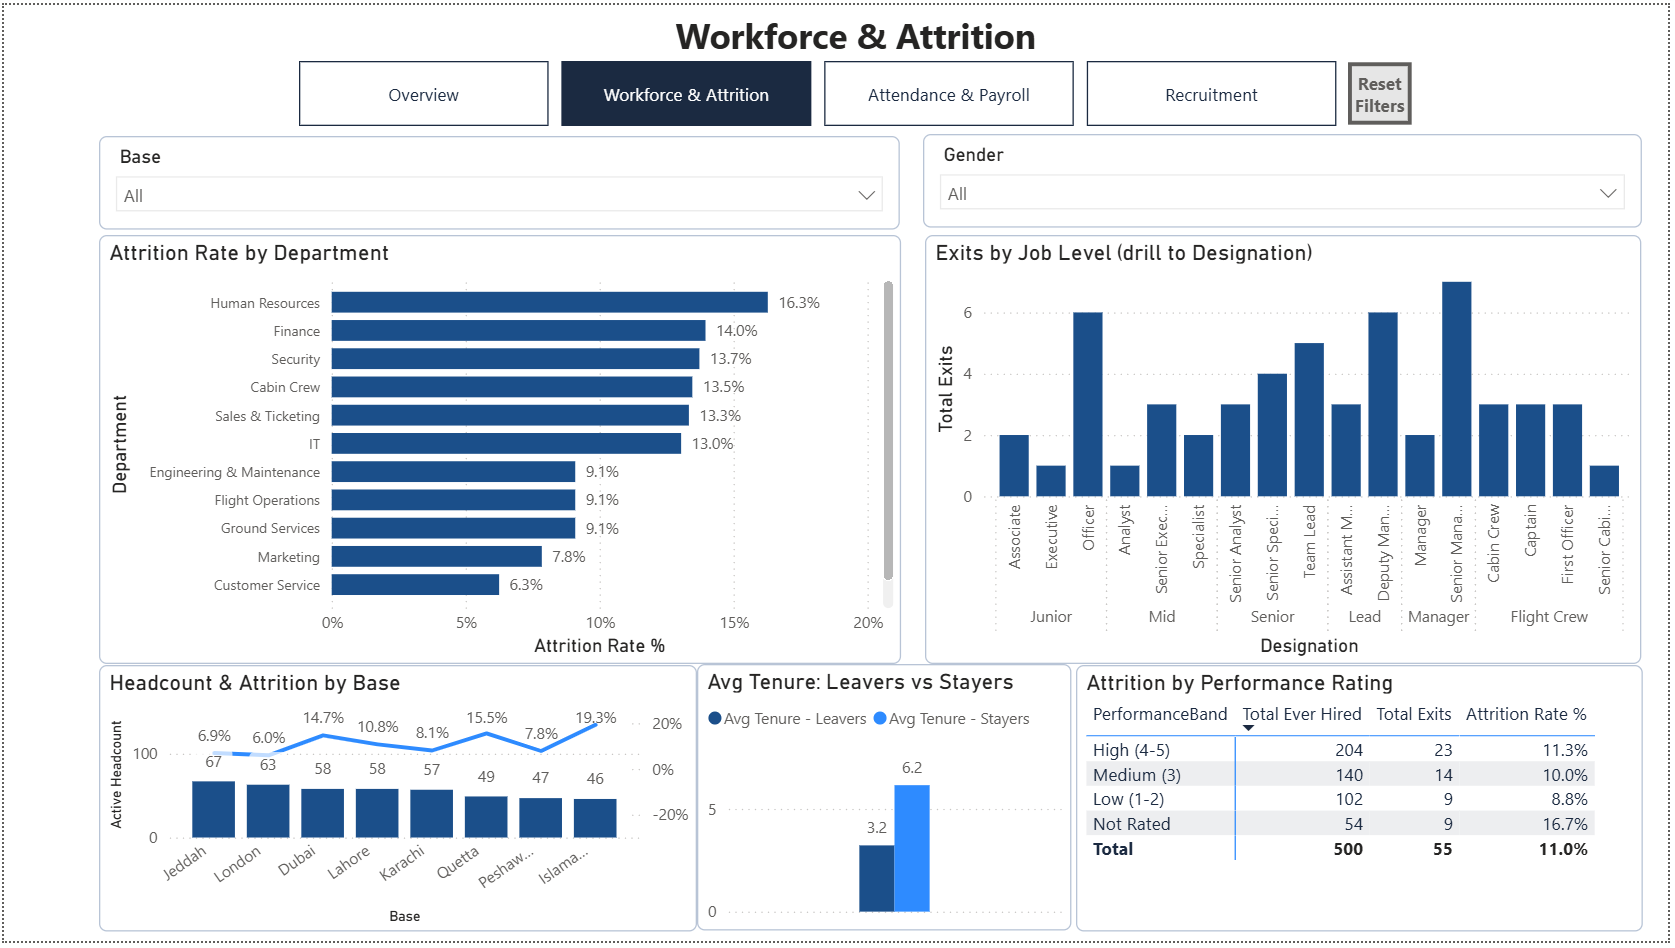

This screenshot's page, from the dashboard's own definition file:
{"tool":"powerbi","page":{"name":"Workforce & Attrition","canvas":[1280,720],"ordinal":1},"visuals":[{"type":"textbox","box":[511.7,0,428.3,68.3],"z":0},{"type":"lineClusteredColumnComboChart","title":"Headcount & Attrition by Base","fields":{"Category":["Dim_Branch.BranchCity"],"Y":["_Measures.Active Headcount"],"Y2":["_Measures.Attrition Rate %"]},"box":[72.9,507.5,459.6,204.7],"z":1000},{"type":"slicer","fields":{"Values":["Dim_Branch.BranchCity"]},"box":[73.4,100.8,616.3,72],"z":2000},{"type":"slicer","fields":{"Values":["Dim_Employee.Gender"]},"box":[707,99.4,553,72],"z":3000},{"type":"clusteredBarChart","title":"Attrition Rate by Department","fields":{"Category":["Dim_Employee.Department"],"Y":["_Measures.Attrition Rate %"]},"box":[72.9,177.1,617.1,330],"z":4000},{"type":"clusteredColumnChart","title":"Exits by Job Level (drill to Designation)","fields":{"Category":["Dim_Employee.Job Level","Dim_Employee.Designation"],"Y":["_Measures.Total Exits"]},"box":[708.6,177.1,551.4,330],"z":5000},{"type":"pivotTable","title":"Attrition by Performance Rating","fields":{"Rows":["Dim_Employee.PerformanceBand"],"Values":["_Measures.Total Ever Hired","_Measures.Total Exits","_Measures.Attrition Rate %"]},"box":[824.3,507.5,436.1,204.7],"z":6000},{"type":"clusteredColumnChart","title":"Avg Tenure: Leavers vs Stayers","fields":{"Y":["_Measures.Avg Tenure - Leavers","_Measures.Avg Tenure - Stayers"]},"box":[533.3,506.7,287.8,205.5],"z":7000},{"type":"pageNavigator","box":[226.7,43.3,800,50],"z":8000},{"type":"actionButton","title":"Reset Filters","box":[1033.9,43.2,49,49],"z":9000}]}

Visuals, with their boxes in screenshot pixels (x1, y1, x2, y2), scaled from the page's 1280x720 canvas onto the 1675x948 screenshot:
textbox: [670,0,1230,90]
"Headcount & Attrition by Base" lineClusteredColumnComboChart: [95,668,697,938]
slicer - Dim_Branch.BranchCity: [96,133,903,228]
slicer - Dim_Employee.Gender: [925,131,1649,226]
"Attrition Rate by Department" clusteredBarChart: [95,233,903,668]
"Exits by Job Level (drill to Designation)" clusteredColumnChart: [927,233,1649,668]
"Attrition by Performance Rating" pivotTable: [1079,668,1649,938]
"Avg Tenure: Leavers vs Stayers" clusteredColumnChart: [698,667,1074,938]
pageNavigator: [297,57,1344,123]
"Reset Filters" actionButton: [1353,57,1417,121]
